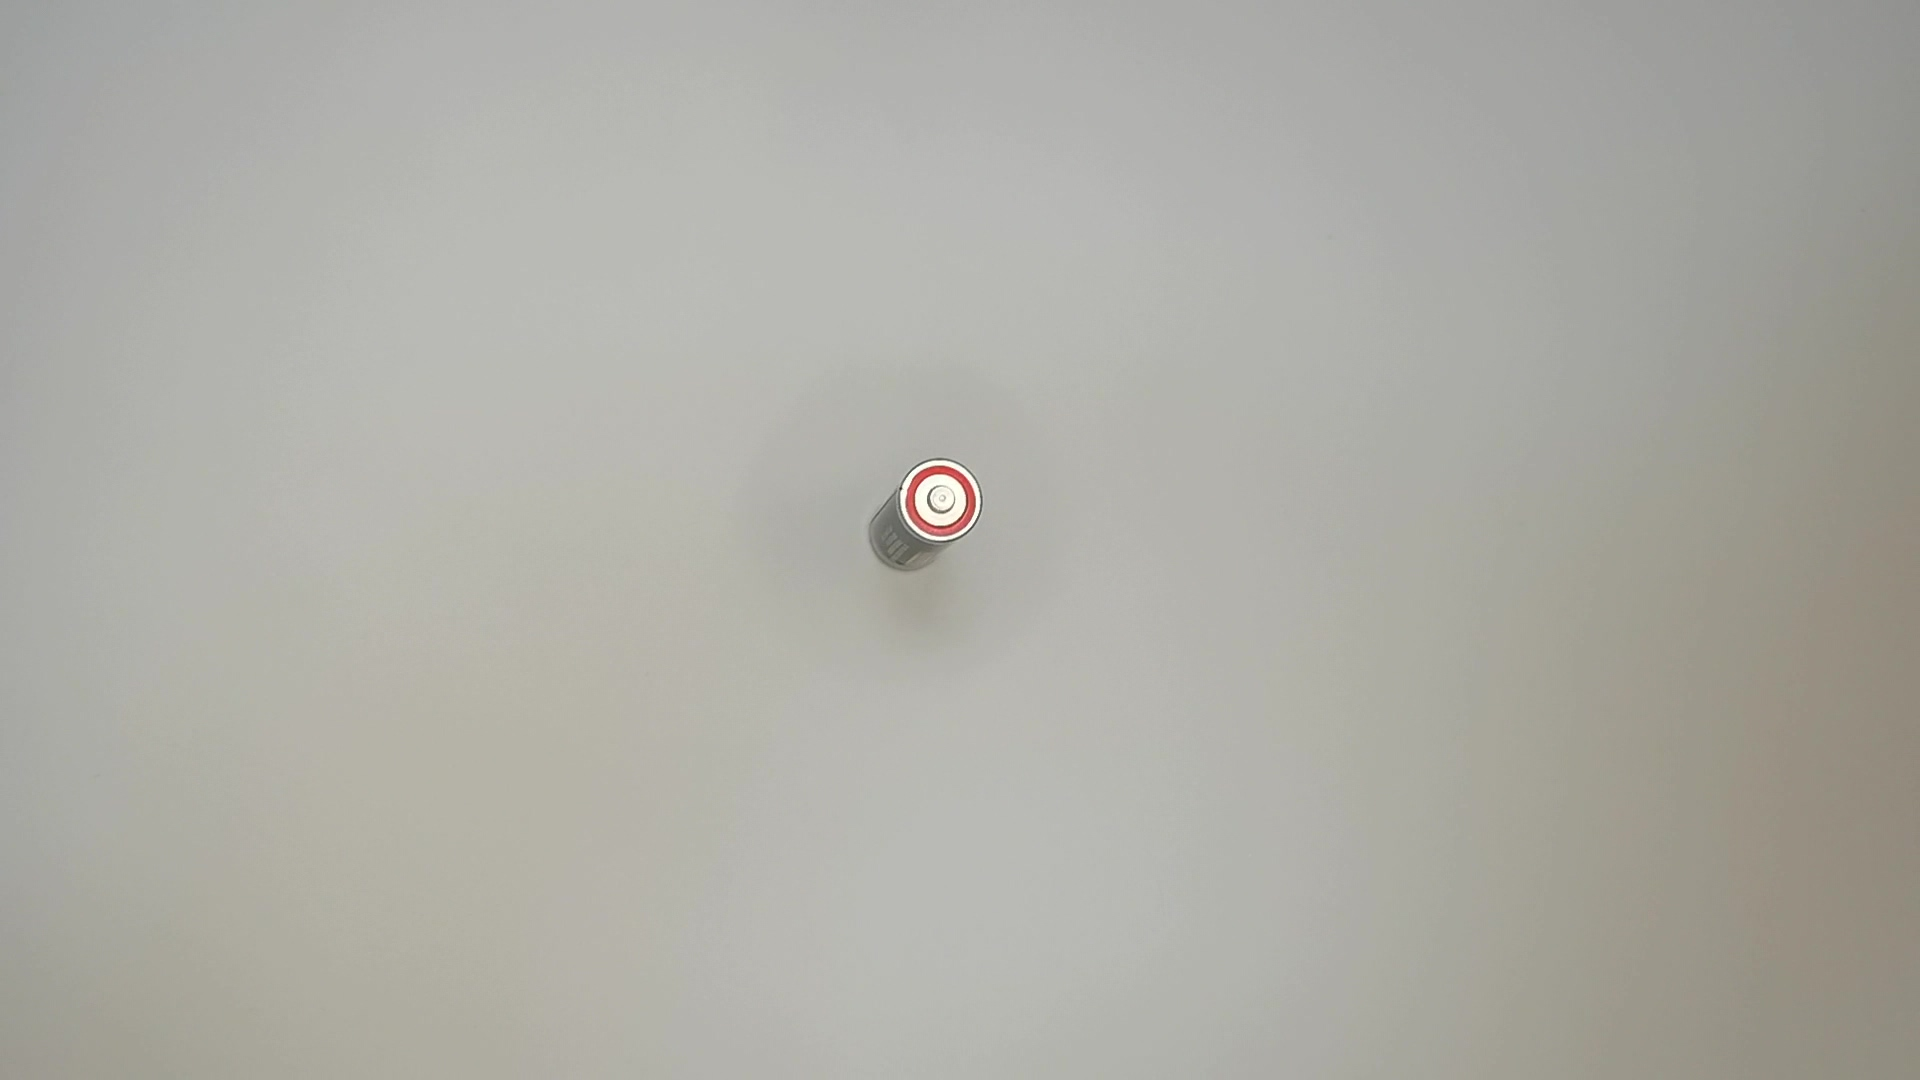battery: (860, 454, 984, 585)
